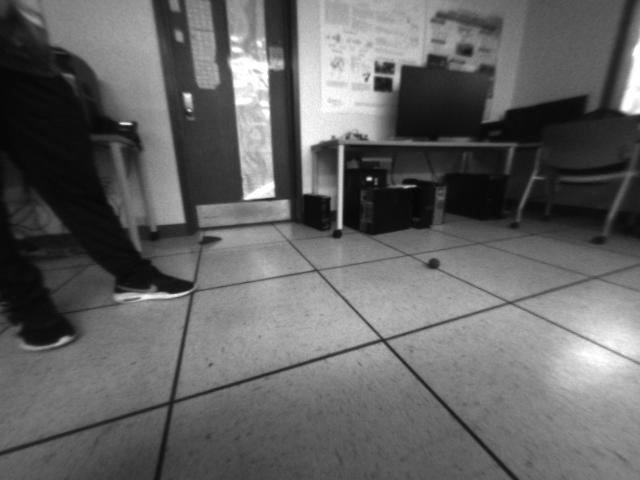dogtoy: (420, 251, 450, 272)
